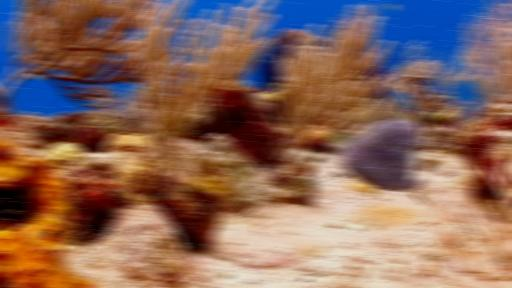Fish: (431, 107, 462, 124), (326, 133, 353, 144), (261, 92, 278, 101), (388, 3, 397, 12)
